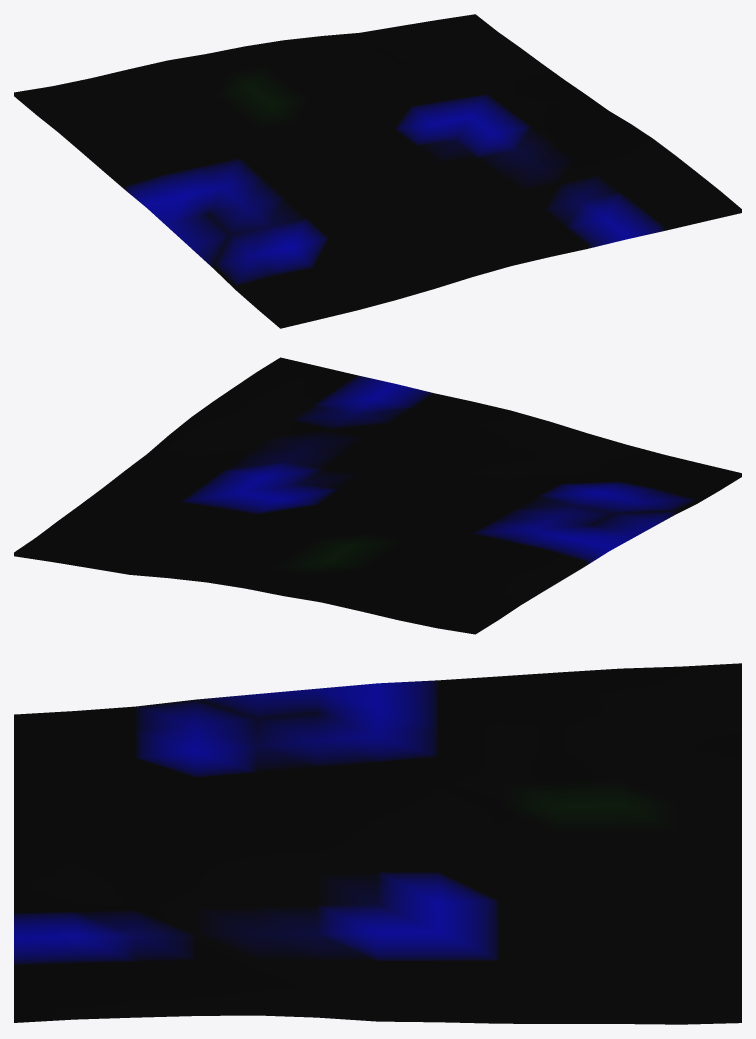
Rendered from coast_0_4.glb.
3 renders of one model, top to bottom at view 1: azimuth 30°, elevation 25°; view 2: azimuth 150°, elevation 25°; view 3: azimuth 270°, elevation 25°, orthographic. The views are drawn at different scales.
Visible parts, largest first — view 1: terrain; view 2: terrain; view 3: terrain.
Part boxes in pixels (bbox=[...]): terrain: bbox=[14, 14, 741, 328]; terrain: bbox=[14, 357, 741, 634]; terrain: bbox=[14, 663, 741, 1024].
Size of the model in its own units: 192 by 16.58 by 192.
